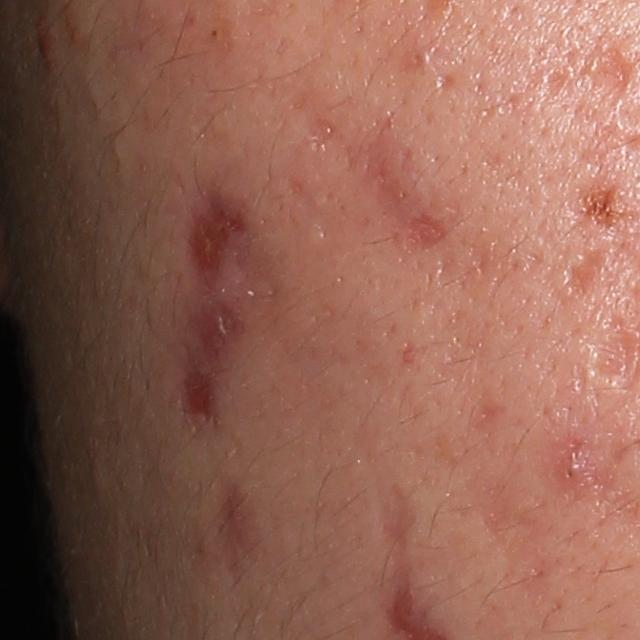atrophic_scar: (167, 188, 259, 479), (308, 107, 459, 259), (481, 469, 566, 610), (203, 470, 267, 591), (374, 470, 439, 559), (589, 326, 637, 380)
comedo: (407, 49, 429, 69)
papule: (550, 444, 599, 496), (565, 249, 613, 299), (31, 20, 64, 67)
